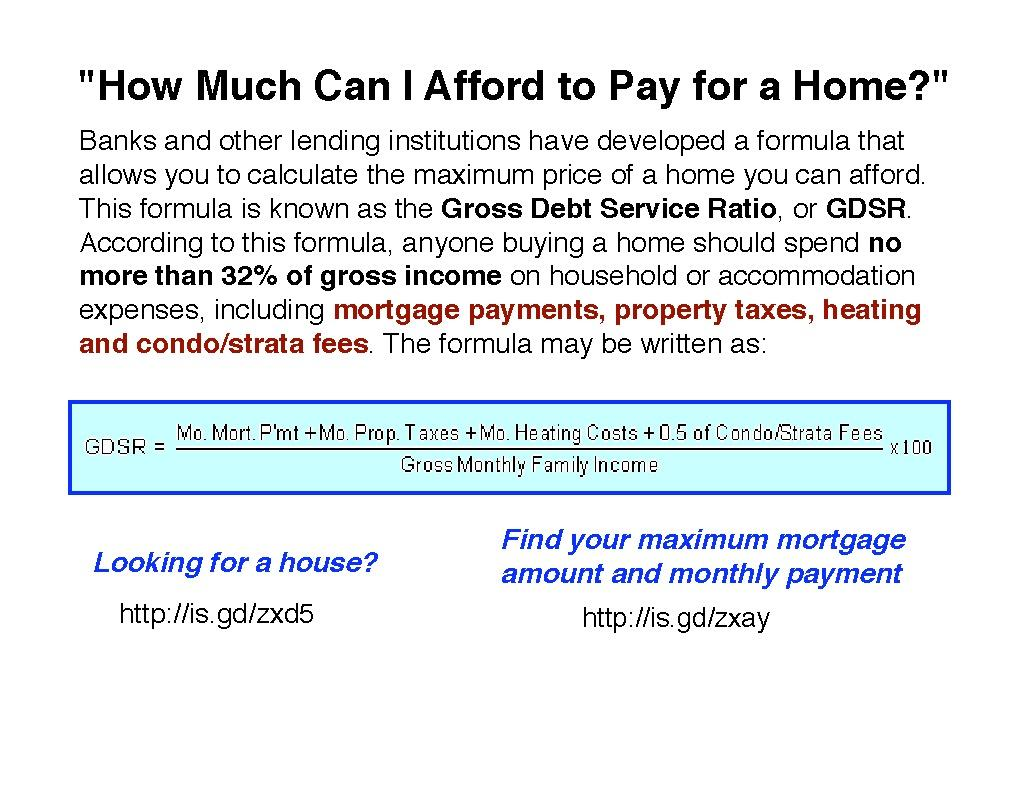paragraph: (59, 114, 990, 688)
title: (69, 56, 973, 120)
